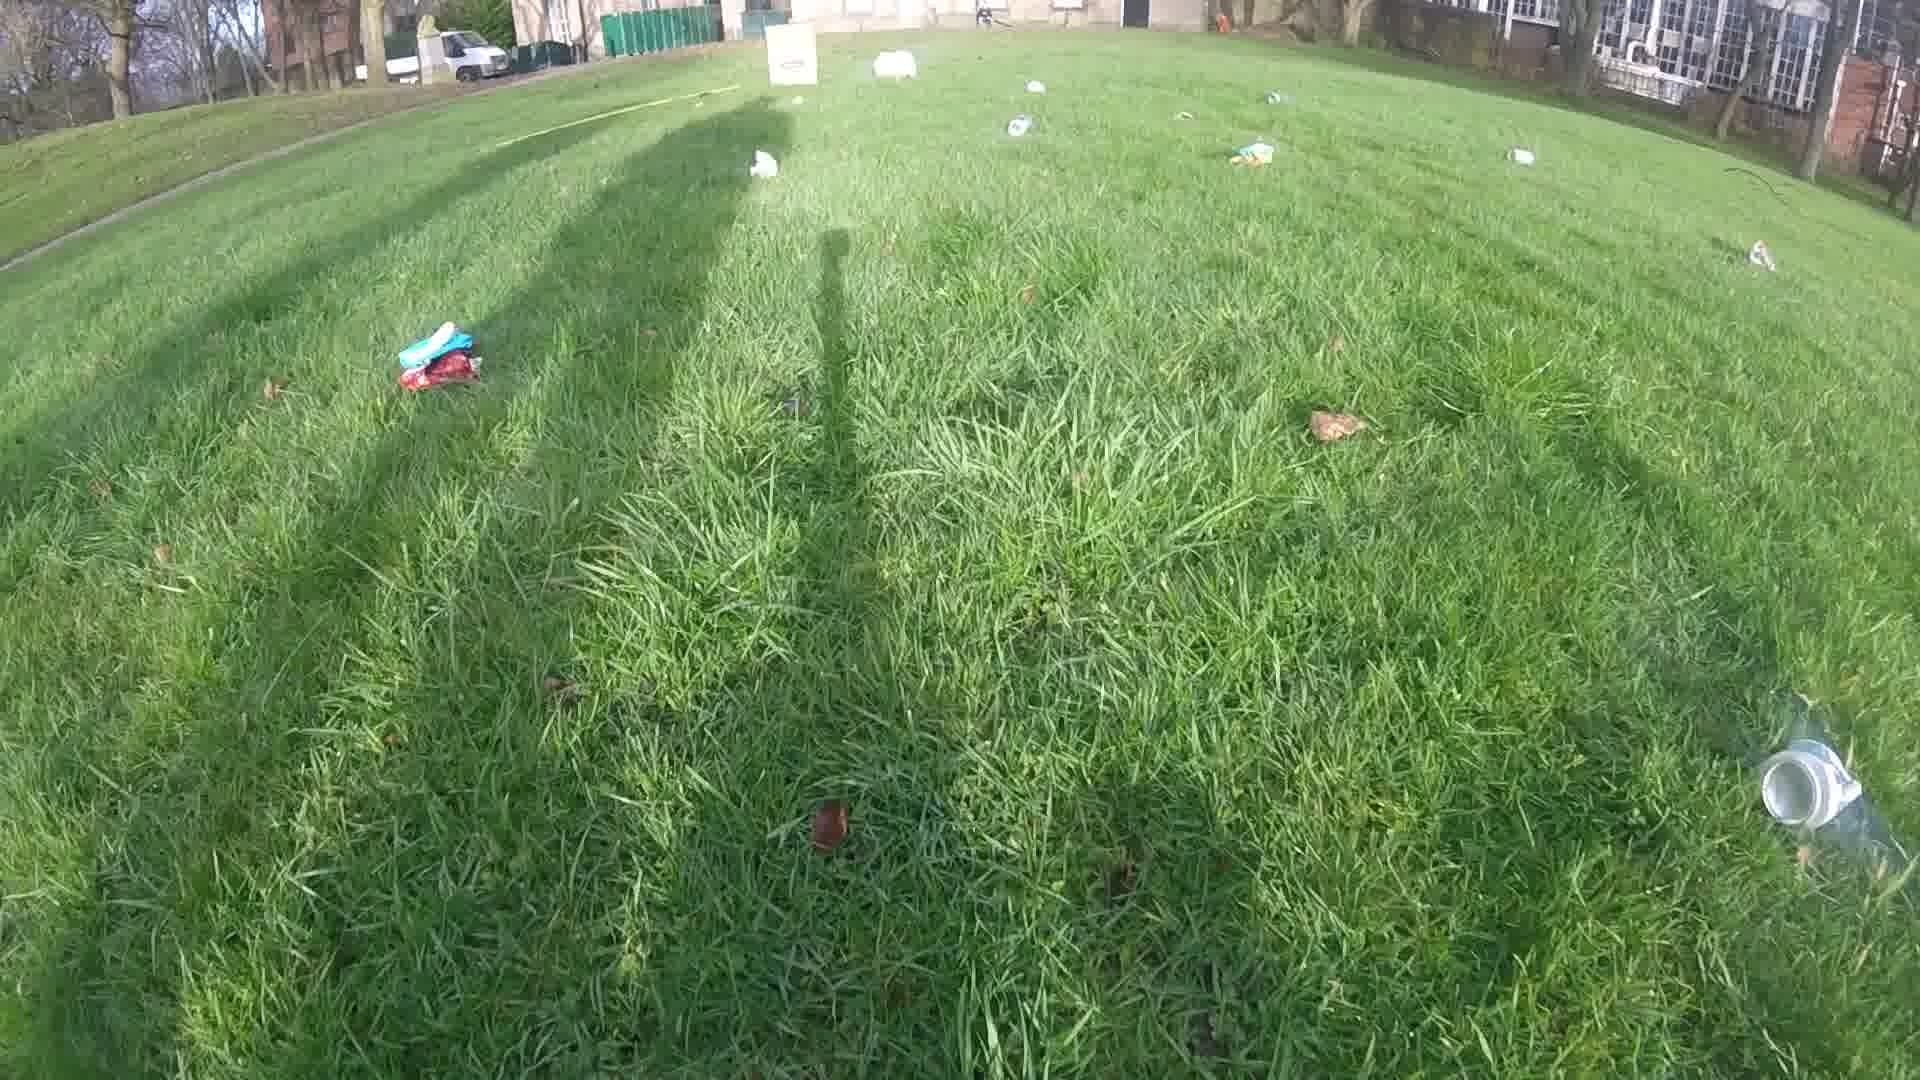litter: (1758, 738, 1862, 828), (393, 323, 481, 384), (767, 24, 822, 84), (873, 50, 918, 82), (1226, 144, 1275, 169), (748, 150, 779, 175), (1749, 243, 1776, 270), (1507, 146, 1535, 170), (1004, 117, 1030, 137), (1022, 80, 1044, 96), (1168, 113, 1195, 123), (1261, 94, 1284, 103)
